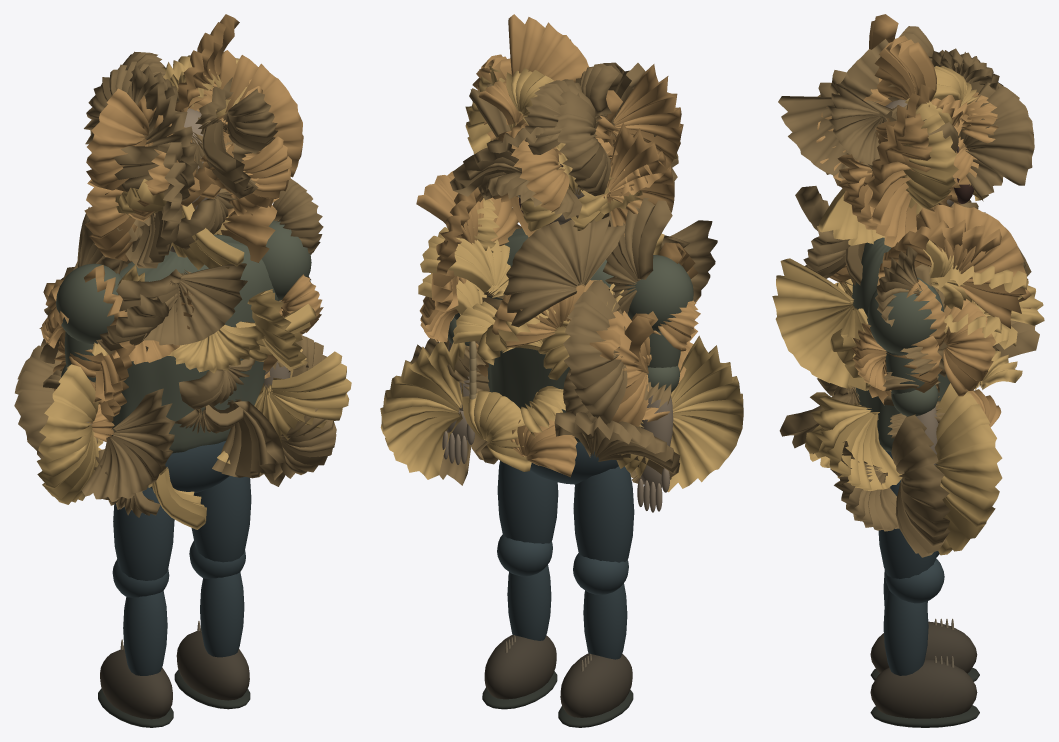
The model's file is brute.glb.
The picture shows the model from 3 angles, left to right: view 1: azimuth 30°, elevation 25°; view 2: azimuth 150°, elevation 25°; view 3: azimuth 270°, elevation 25°; orthographic projection.
Visible parts, largest first — view 1: torso.002, fungal_plate.059, fungal_plate.051, fungal_plate.090, fungal_plate.066, thigh.004, thigh.005, fungal_plate.042, fungal_plate.038, fungal_plate.074, shoulder.004, boot.004 (+49 smaller); view 2: fungal_plate.076, fungal_plate.059, fungal_plate.070, fungal_plate.096, thigh.004, fungal_plate.038, thigh.005, fungal_plate.049, fungal_plate.054, fungal_plate.020, fungal_plate.046, torso.002 (+48 smaller); view 3: fungal_plate.076, fungal_plate.087, fungal_plate.050, fungal_plate.066, fungal_plate.068, boot.005, fungal_plate.042, fungal_plate.018, fungal_plate.027, fungal_plate.037, fungal_plate.089, calf.005 (+46 smaller).
Part boxes in pixels (left/top/right/bottom): torso.002: left=111, top=234, right=278, bottom=453; fungal_plate.059: left=37, top=364, right=98, bottom=504; fungal_plate.051: left=81, top=388, right=175, bottom=501; fungal_plate.090: left=142, top=263, right=247, bottom=345; fungal_plate.066: left=254, top=351, right=351, bottom=442; thigh.004: left=113, top=487, right=174, bottom=580; thigh.005: left=191, top=476, right=251, bottom=562; fungal_plate.042: left=218, top=50, right=303, bottom=215; fungal_plate.038: left=86, top=88, right=149, bottom=194; fungal_plate.074: left=212, top=399, right=285, bottom=478; shoulder.004: left=56, top=263, right=122, bottom=344; boot.004: left=100, top=649, right=172, bottom=719; fungal_plate.076: left=380, top=342, right=465, bottom=479; fungal_plate.059: left=667, top=335, right=743, bottom=492; fungal_plate.070: left=503, top=215, right=625, bottom=327; fungal_plate.096: left=563, top=280, right=627, bottom=423; thigh.004: left=573, top=466, right=634, bottom=562; fungal_plate.038: left=603, top=64, right=683, bottom=197; thigh.005: left=497, top=460, right=558, bottom=543; fungal_plate.049: left=554, top=412, right=679, bottom=479; fungal_plate.054: left=603, top=198, right=672, bottom=313; fungal_plate.020: left=554, top=84, right=610, bottom=196; fungal_plate.046: left=606, top=123, right=674, bottom=236; torso.002: left=487, top=228, right=615, bottom=442; fungal_plate.076: left=934, top=383, right=1002, bottom=555; fungal_plate.087: left=772, top=258, right=870, bottom=390; fungal_plate.050: left=891, top=414, right=950, bottom=557; fungal_plate.066: left=810, top=392, right=902, bottom=490; fungal_plate.068: left=919, top=203, right=1026, bottom=328; boot.005: left=870, top=659, right=977, bottom=718; fungal_plate.042: left=867, top=84, right=935, bottom=247; fungal_plate.018: left=958, top=78, right=1034, bottom=185; fungal_plate.027: left=778, top=96, right=892, bottom=178; fungal_plate.037: left=902, top=100, right=958, bottom=214; fungal_plate.089: left=943, top=298, right=995, bottom=396; calf.005: left=883, top=588, right=928, bottom=675.
Bounding box in the file's own units: 1.26 × 2.55 × 0.918.
